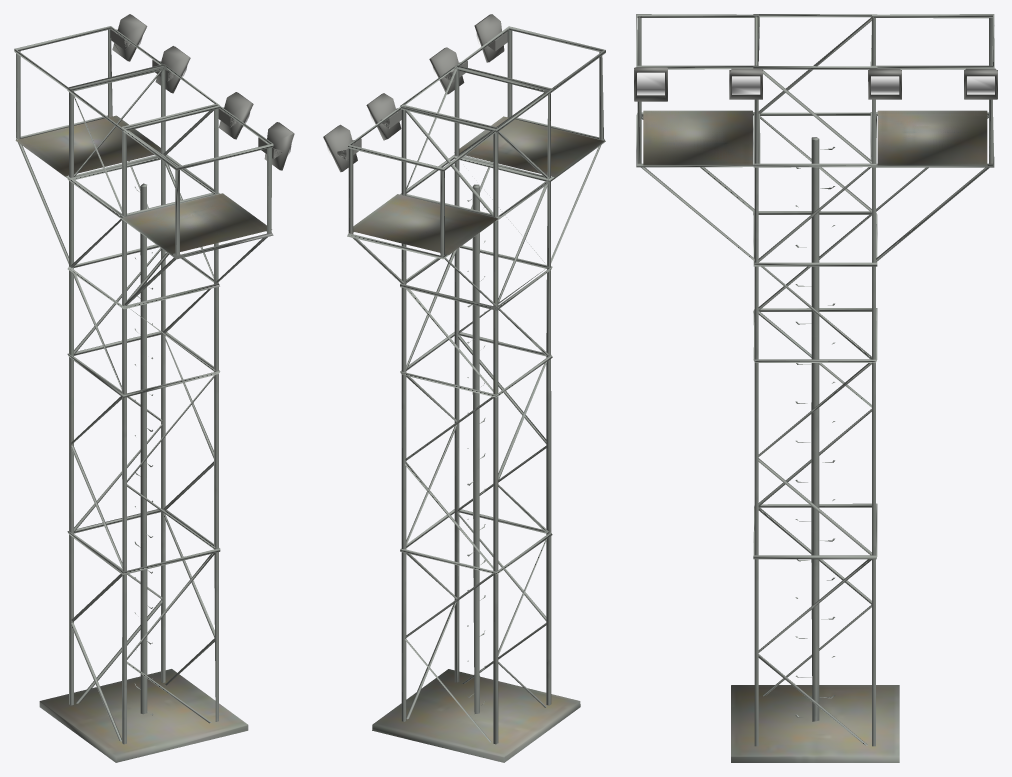
Rendered from floodlight.lod1.glb.
3 renders of one model, left to right at view 1: azimuth 30°, elevation 25°; view 2: azimuth 150°, elevation 25°; view 3: azimuth 270°, elevation 25°, orthographic. The views are drawn at different scales.
Parts seen in each view (by area): view 1: LightsTower1_Frame_mat_0, LightsTower1_GLASS_Clear_m_0; view 2: LightsTower1_Frame_mat_0, LightsTower1_GLASS_Clear_m_0; view 3: LightsTower1_Frame_mat_0, LightsTower1_GLASS_Clear_m_0.
Boxes of the visible parts, x1,y1,x2,y2 form: LightsTower1_Frame_mat_0: (14, 26, 273, 762); LightsTower1_GLASS_Clear_m_0: (111, 14, 294, 170); LightsTower1_Frame_mat_0: (347, 26, 605, 762); LightsTower1_GLASS_Clear_m_0: (323, 14, 507, 172); LightsTower1_Frame_mat_0: (636, 14, 994, 762); LightsTower1_GLASS_Clear_m_0: (634, 67, 997, 101).
Size of the model in its own units: 2.23 by 9.79 by 4.64.
2 materials, 1 textured.
